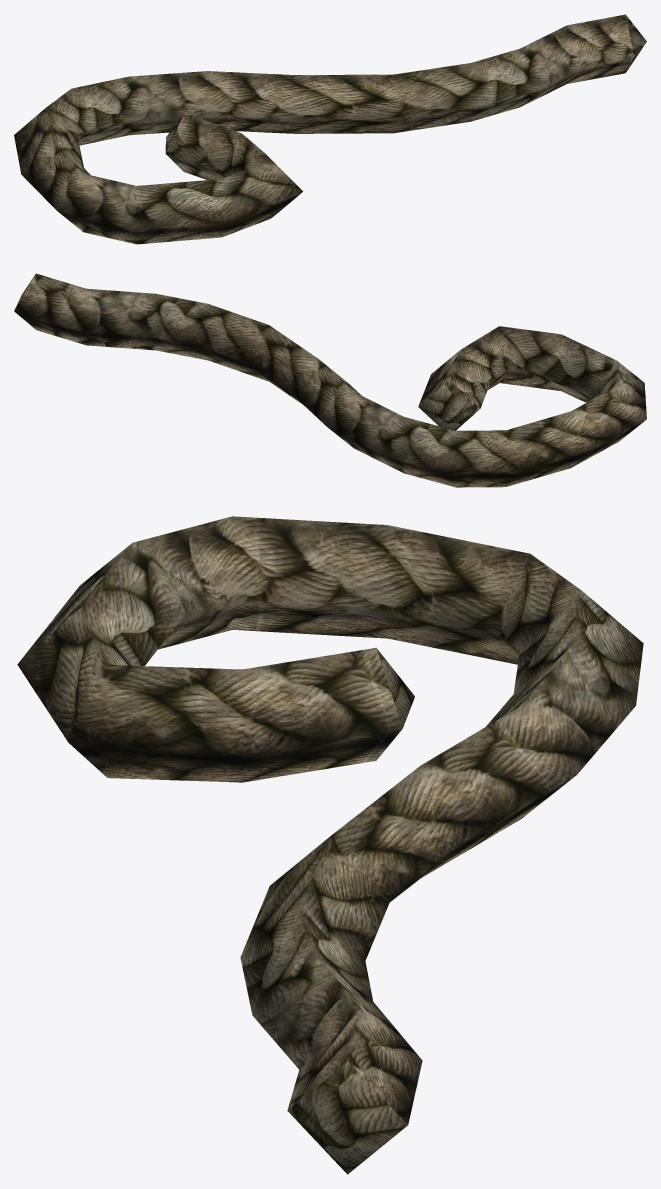
The model's file is rope_stump01.dae.
3 renders of one model, top to bottom at view 1: azimuth 30°, elevation 25°; view 2: azimuth 150°, elevation 25°; view 3: azimuth 270°, elevation 25°, orthographic. The views are drawn at different scales.
Visible parts, largest first — view 1: rope01; view 2: rope01; view 3: rope01.
Part boxes in pixels (left/top/right/bottom): rope01: left=14, top=14, right=646, bottom=244; rope01: left=14, top=273, right=646, bottom=487; rope01: left=17, top=516, right=643, bottom=1174.
Size of the model in its own units: 0.5148 by 0.2333 by 0.0486.
1 material, 1 textured.
